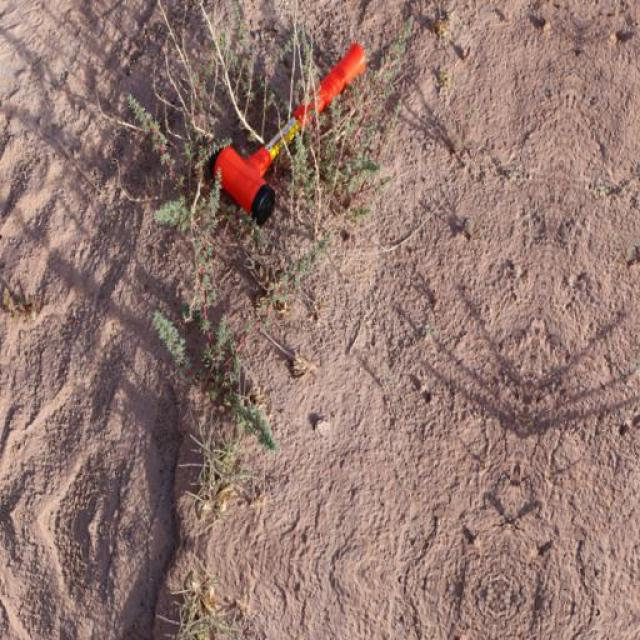mallet: (206, 39, 369, 225)
